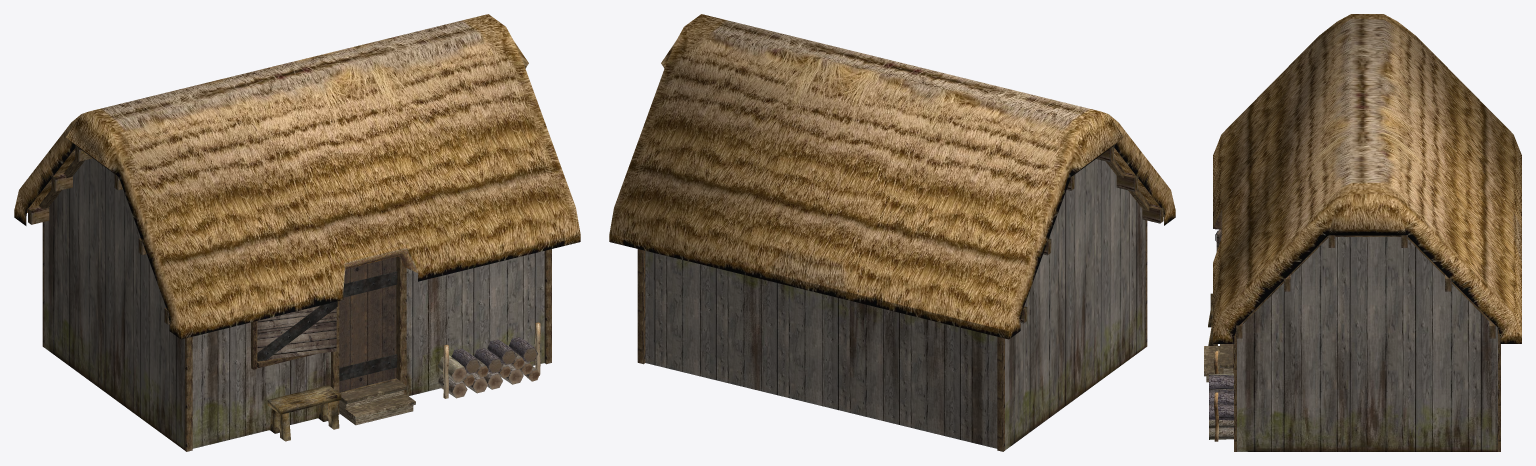
The model's file is building-thatched-house.glb.
The picture shows the model from 3 angles, left to right: view 1: azimuth 30°, elevation 25°; view 2: azimuth 150°, elevation 25°; view 3: azimuth 270°, elevation 25°; orthographic projection. The views are drawn at different scales.
Visible parts, largest first — view 1: house_; view 2: house_; view 3: house_.
Part boxes in pixels (left/top/right/bottom): house_: left=14, top=14, right=580, bottom=451; house_: left=609, top=14, right=1175, bottom=451; house_: left=1204, top=14, right=1521, bottom=451.
Bounding box in the file's own units: 6.95 × 4.5 × 4.87.
2 materials, 2 textured.
